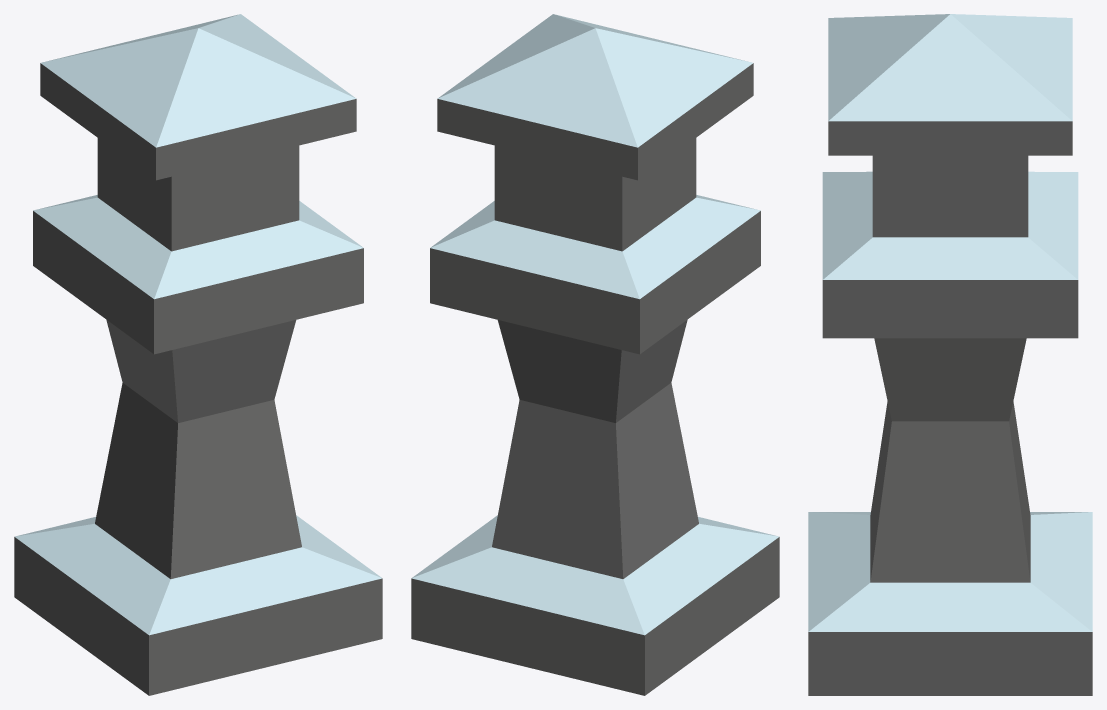
Rendered from SM_Prop_Samurai_Shrine_02_Snow.fbx.
3 views of the same model, side by side, from view 1: azimuth 30°, elevation 25°; view 2: azimuth 150°, elevation 25°; view 3: azimuth 270°, elevation 25° (orthographic). The views are drawn at different scales.
Visible parts, largest first — view 1: SM_Prop_Samurai_Shrine_02_Snow; view 2: SM_Prop_Samurai_Shrine_02_Snow; view 3: SM_Prop_Samurai_Shrine_02_Snow.
Part boxes in pixels (left/top/right/bottom): SM_Prop_Samurai_Shrine_02_Snow: left=14, top=14, right=382, bottom=695; SM_Prop_Samurai_Shrine_02_Snow: left=411, top=14, right=779, bottom=695; SM_Prop_Samurai_Shrine_02_Snow: left=808, top=14, right=1092, bottom=695.
Size of the model in its own units: 30.63 by 73.93 by 30.63.
Materials: 1 (1 with a texture image).
